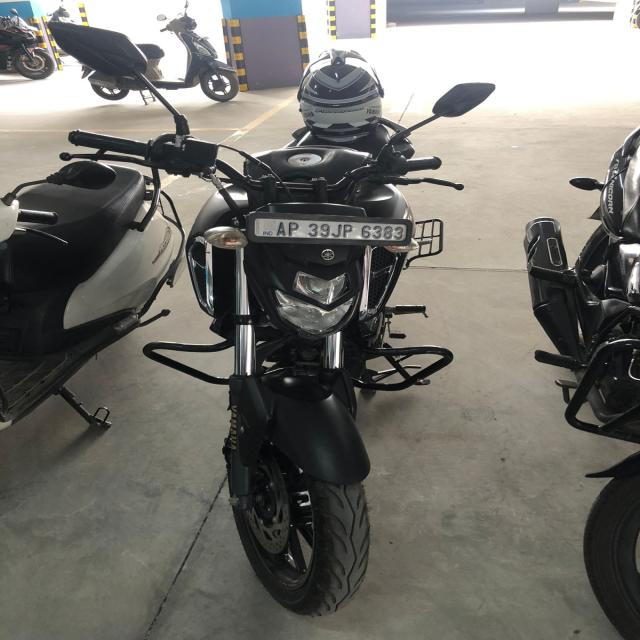number plate: (247, 214, 412, 244)
